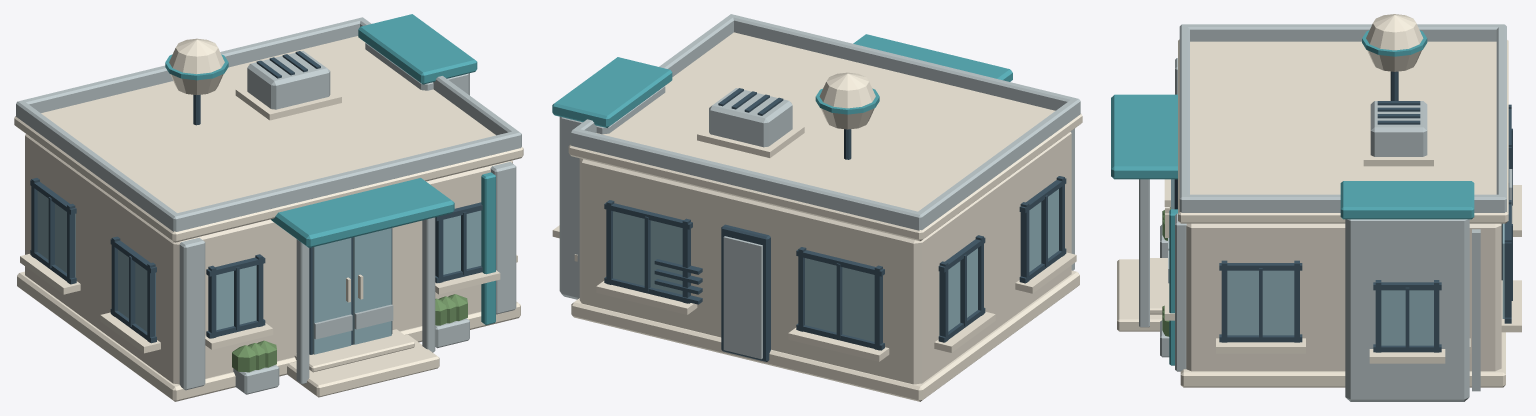
The model's file is development-l01.glb.
3 views of the same model, side by side, from view 1: azimuth 30°, elevation 25°; view 2: azimuth 150°, elevation 25°; view 3: azimuth 270°, elevation 25° (orthographic). The views are drawn at different scales.
Parts seen in each view (by area): view 1: development_L01; view 2: development_L01; view 3: development_L01.
Boxes of the visible parts, <box> form: development_L01: <box>14,14,523,401</box>; development_L01: <box>552,14,1082,401</box>; development_L01: <box>1111,14,1521,401</box>.
Bounding box in the file's own units: 5.64 × 3.39 × 4.8.
